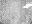person: (24, 3, 31, 10)
